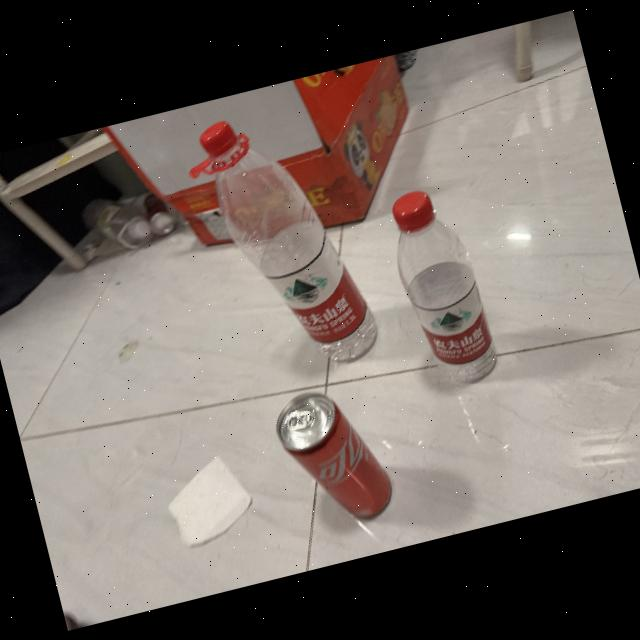Cola: (267, 372, 408, 542)
